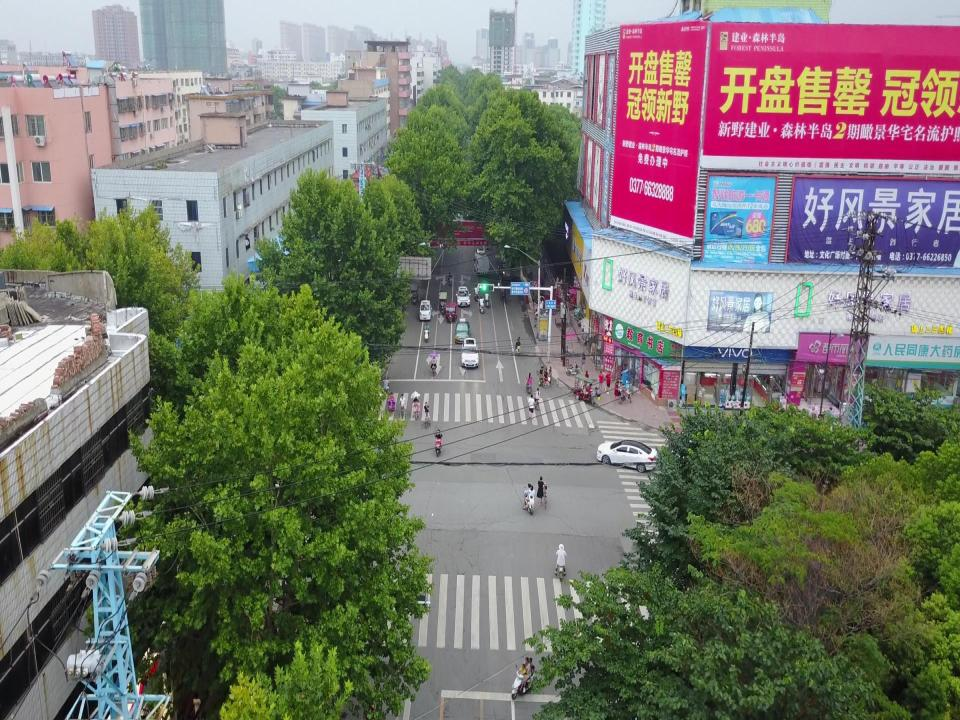car: (596, 439, 657, 473), (462, 338, 478, 368), (454, 319, 470, 343), (456, 286, 470, 306), (418, 300, 432, 320), (497, 265, 512, 279), (474, 250, 484, 262)
van: (474, 255, 490, 274)
